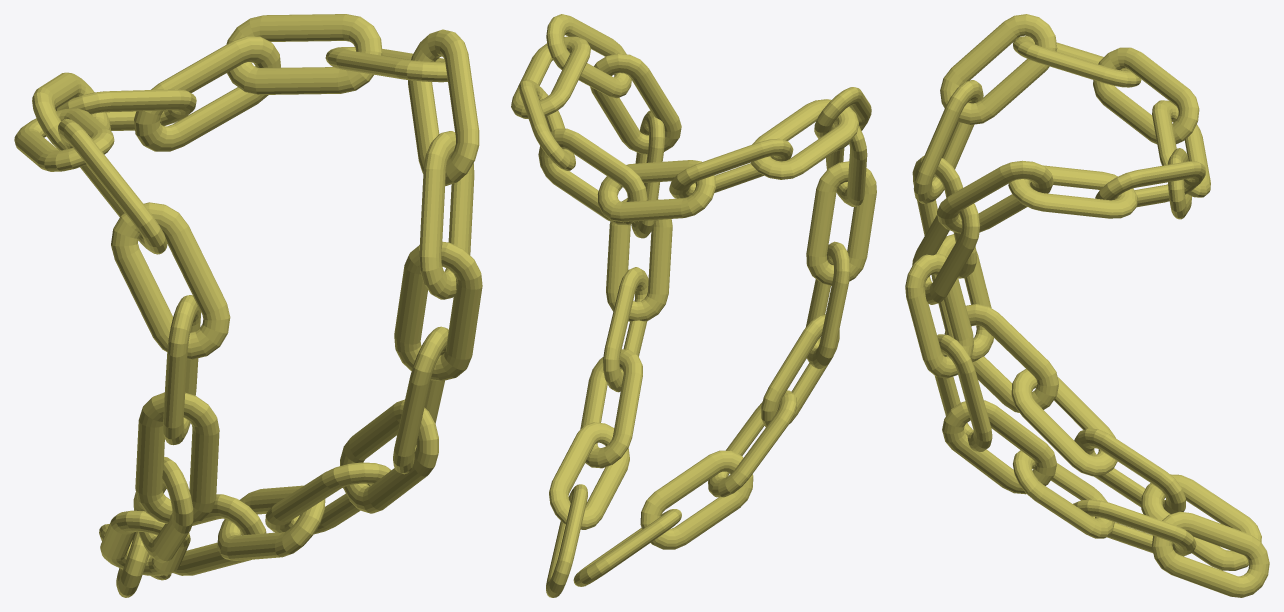
The model's file is Chains.fbx.
3 renders of one model, left to right at view 1: azimuth 30°, elevation 25°; view 2: azimuth 150°, elevation 25°; view 3: azimuth 270°, elevation 25°, orthographic. The views are drawn at different scales.
Visible parts, largest first — view 1: chain:Mesh; view 2: chain:Mesh; view 3: chain:Mesh.
Part boxes in pixels (left/top/right/bottom): chain:Mesh: left=14, top=14, right=482, bottom=597; chain:Mesh: left=511, top=14, right=876, bottom=597; chain:Mesh: left=905, top=14, right=1269, bottom=597.
Bounding box in the file's own units: 25.8 × 36.27 × 24.6.
